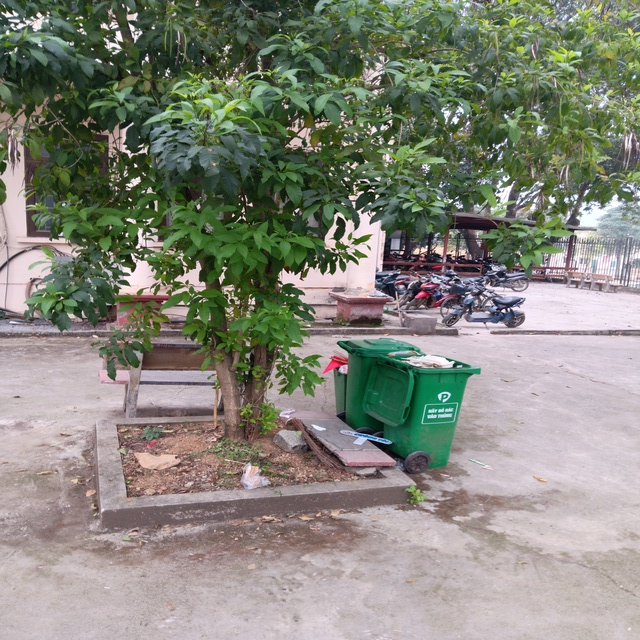thungrac: (380, 355, 464, 471), (348, 335, 408, 432), (329, 355, 361, 423)
